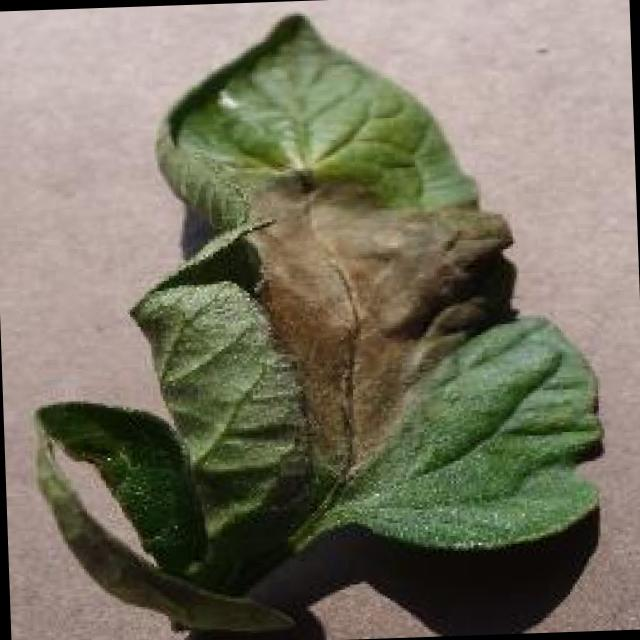Tomato_Late_Blight: (245, 154, 521, 476)
